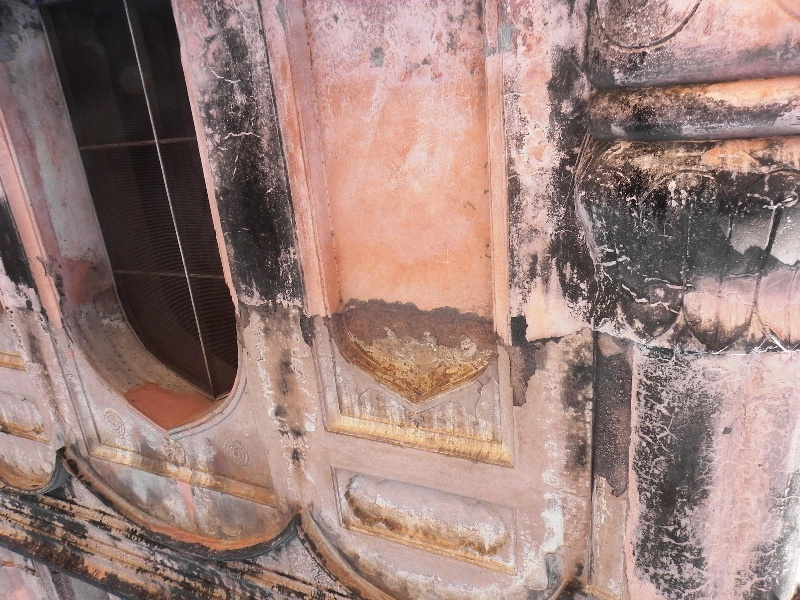Spalling: (315, 286, 502, 365), (504, 312, 536, 411)
